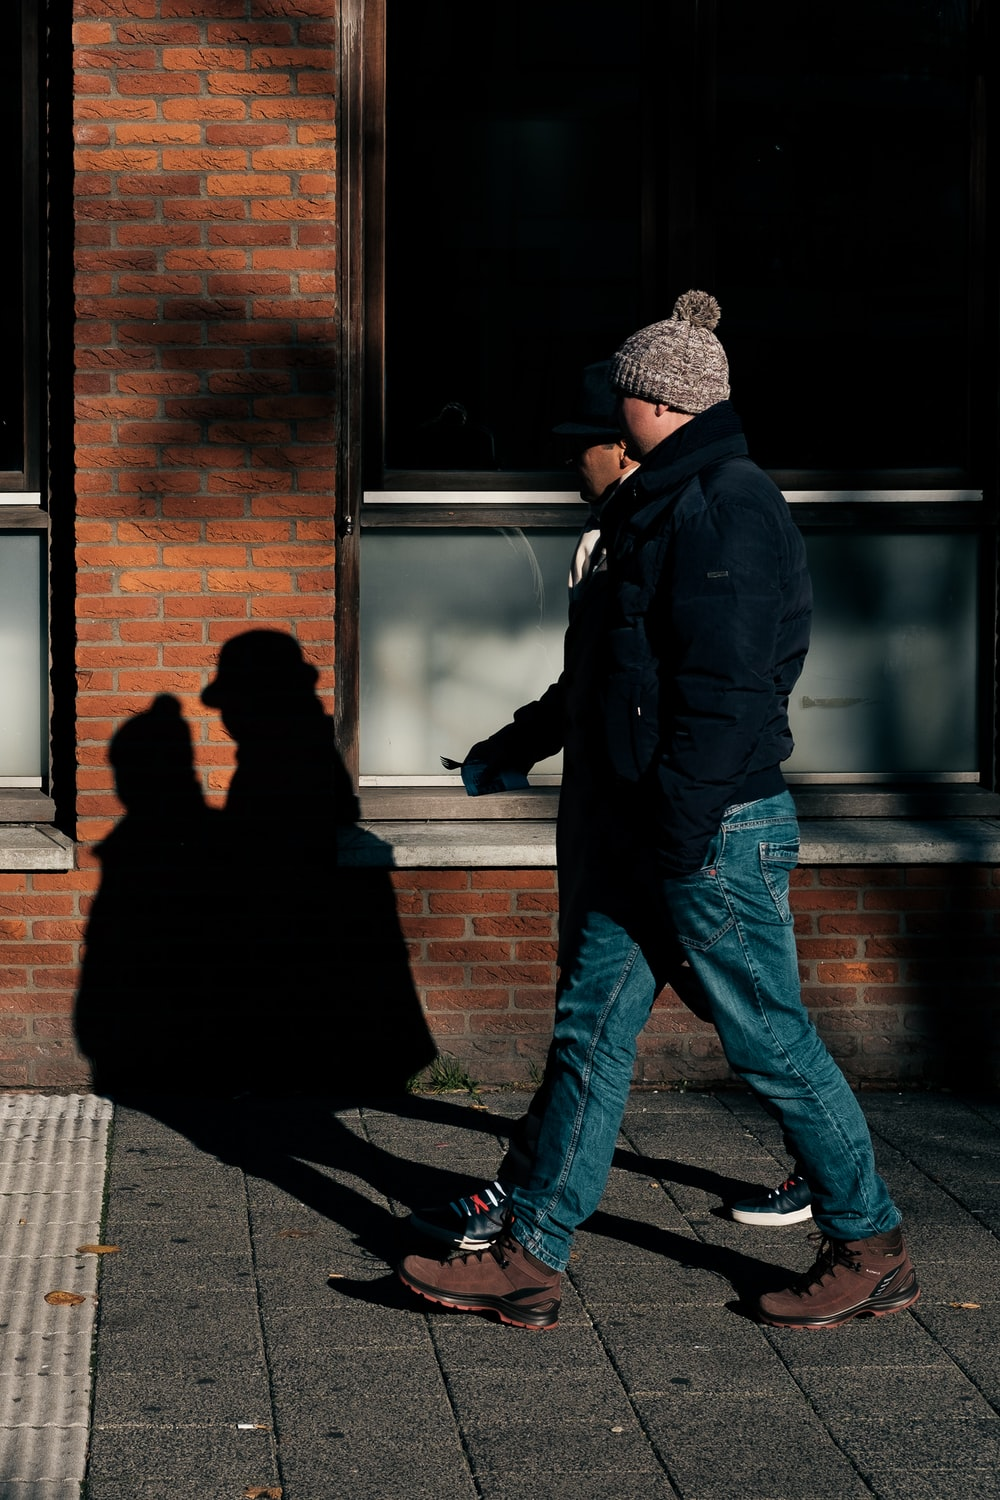face: (603, 283, 760, 461), (555, 397, 655, 506)
